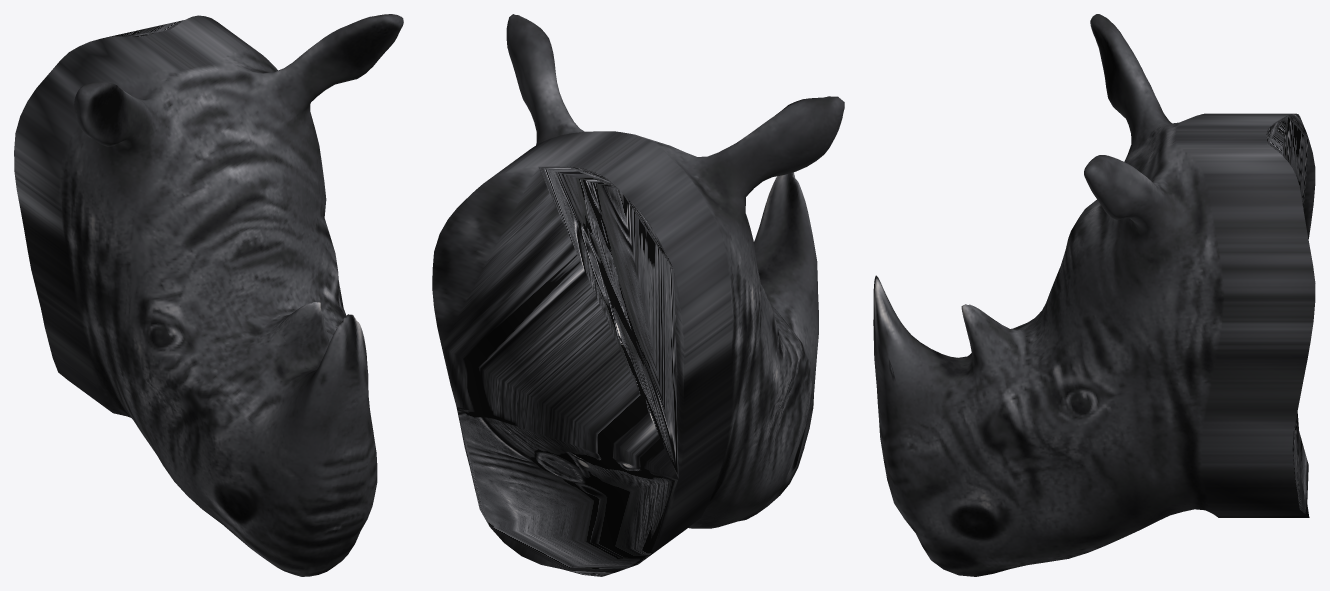
File: HeadRhino.obj
The picture shows the model from 3 angles, left to right: view 1: azimuth 30°, elevation 25°; view 2: azimuth 150°, elevation 25°; view 3: azimuth 270°, elevation 25°; orthographic projection. The views are drawn at different scales.
Visible parts, largest first — view 1: Rhino_Quad.006; view 2: Rhino_Quad.006; view 3: Rhino_Quad.006.
Boxes of the visible parts, x1=… form: Rhino_Quad.006: x1=14, y1=14, x2=403, y2=576; Rhino_Quad.006: x1=432, y1=14, x2=844, y2=576; Rhino_Quad.006: x1=873, y1=14, x2=1315, y2=576.
Bounding box in the file's own units: 0.7732 × 1.1 × 0.9132.
1 material, 1 textured.
